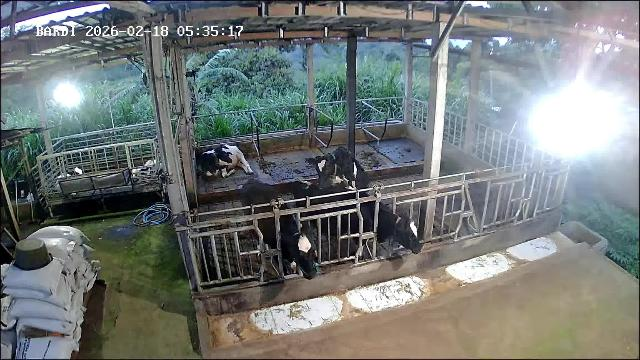mounting: (309, 147, 370, 219)
